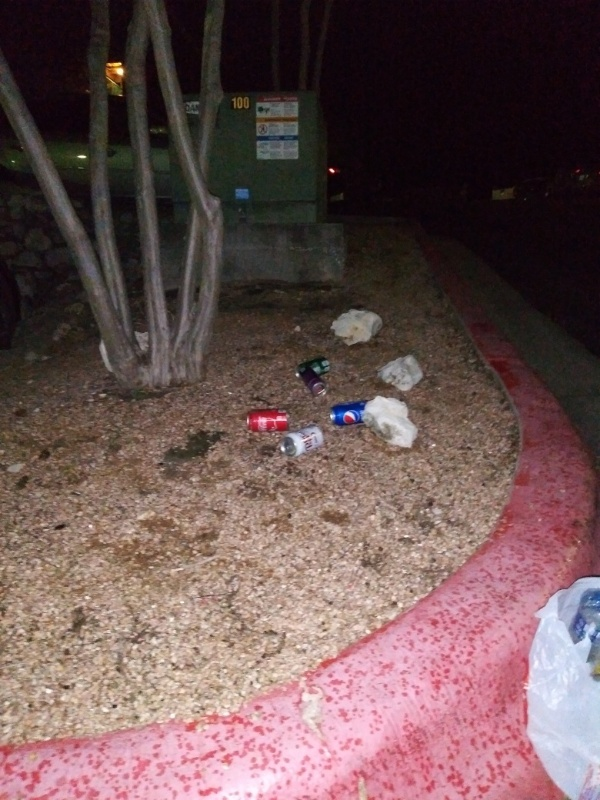can: (277, 424, 328, 459), (238, 406, 295, 432), (328, 397, 375, 427), (296, 363, 331, 401), (296, 355, 330, 380)
